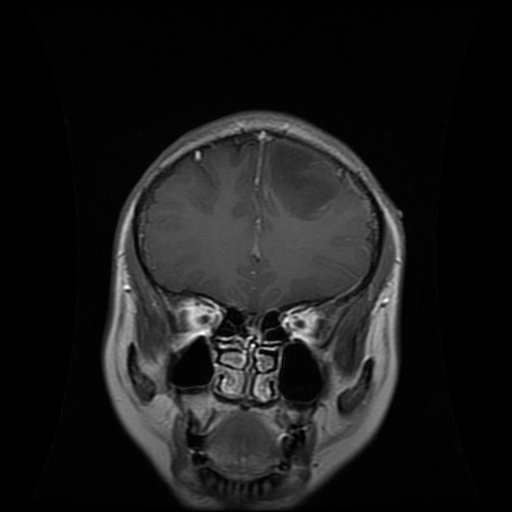glioma: (259, 141, 341, 221)
